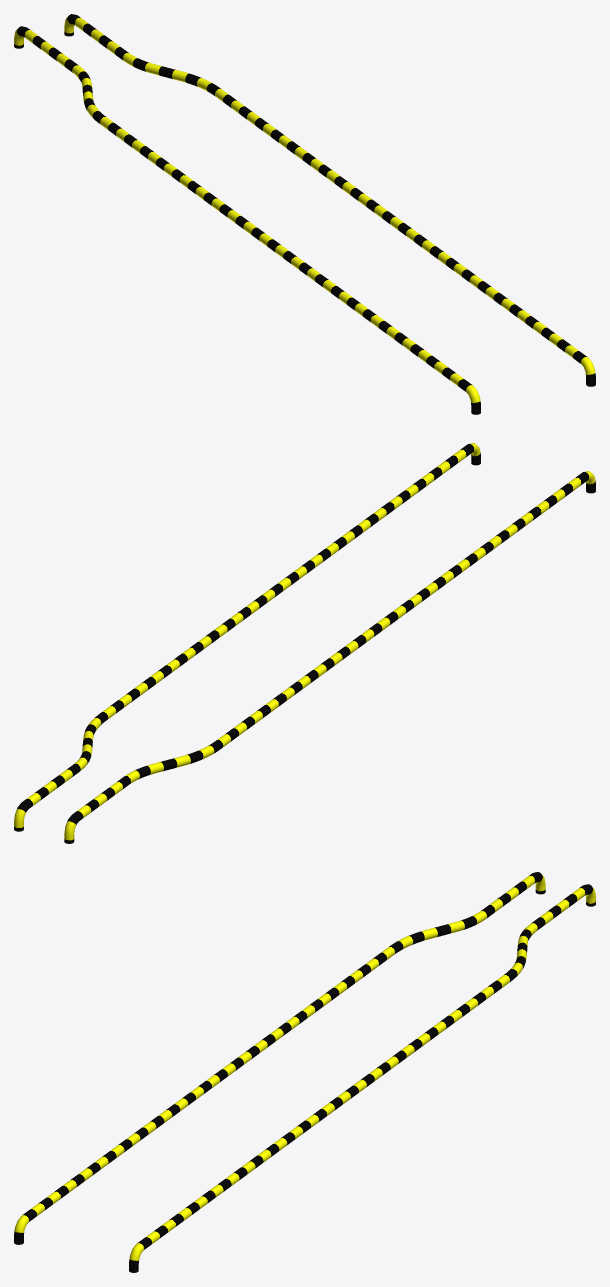
Rendered from rod_5.FBX.
The picture shows the model from 3 angles, top to bottom: view 1: azimuth 30°, elevation 25°; view 2: azimuth 150°, elevation 25°; view 3: azimuth 330°, elevation 25°; orthographic projection.
Parts seen in each view (by area): view 1: Shape004; view 2: Shape004; view 3: Shape004.
Boxes of the visible parts, box(x1,y1,x2,y2) form: Shape004: box(14, 14, 595, 414); Shape004: box(14, 443, 595, 843); Shape004: box(14, 872, 595, 1272).
Size of the model in its own units: 530 by 97.24 by 3675.
